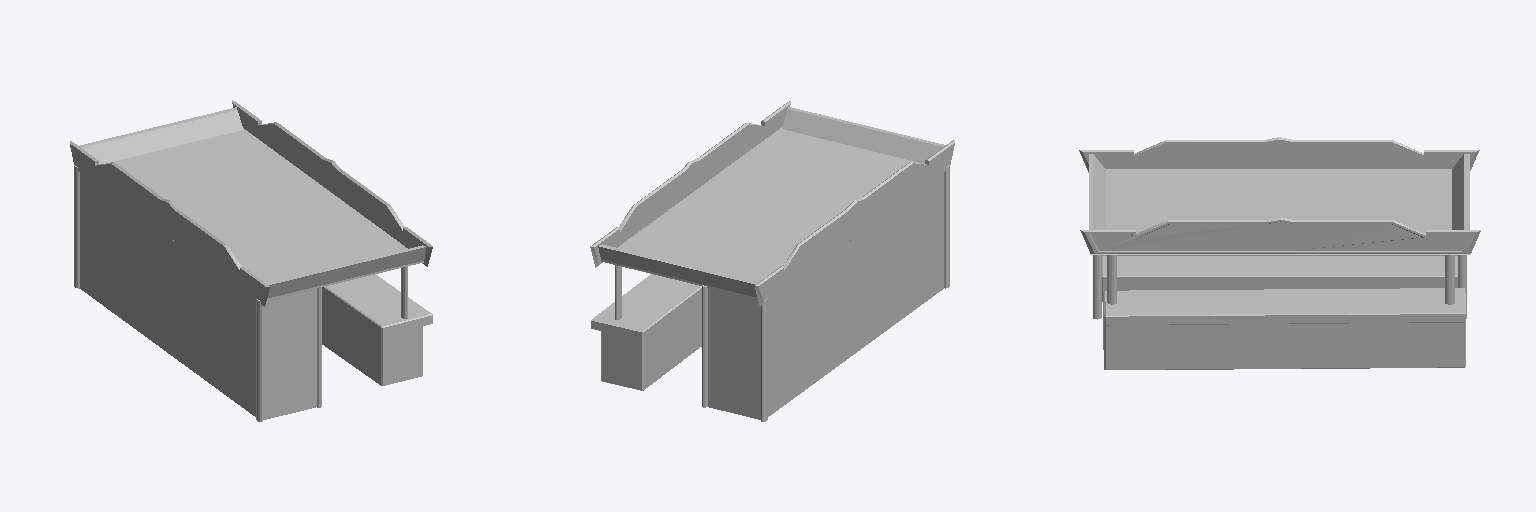
The model's file is Puesto.obj.
3 views of the same model, side by side, from view 1: azimuth 30°, elevation 25°; view 2: azimuth 150°, elevation 25°; view 3: azimuth 270°, elevation 25° (orthographic).
Visible parts, largest first — view 1: Cube.001_Tex_CarnivalCounter_0; view 2: Cube.001_Tex_CarnivalCounter_0; view 3: Cube.001_Tex_CarnivalCounter_0.
Part boxes in pixels (bbox=[...]): Cube.001_Tex_CarnivalCounter_0: bbox=[70, 100, 432, 421]; Cube.001_Tex_CarnivalCounter_0: bbox=[590, 101, 954, 421]; Cube.001_Tex_CarnivalCounter_0: bbox=[1079, 137, 1480, 369].
Bounding box in the file's own units: 4 × 3.26 × 7.75.